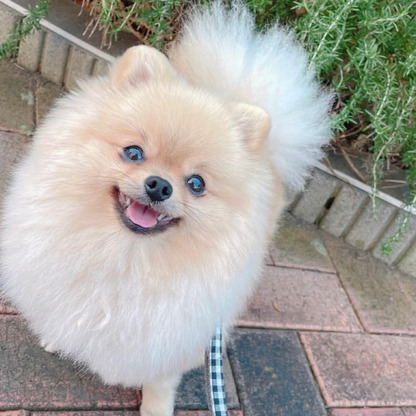Pomeranian: (38, 31, 287, 394)
